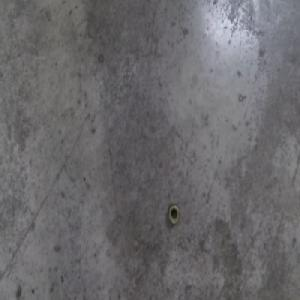Nut: (167, 203, 179, 227)
